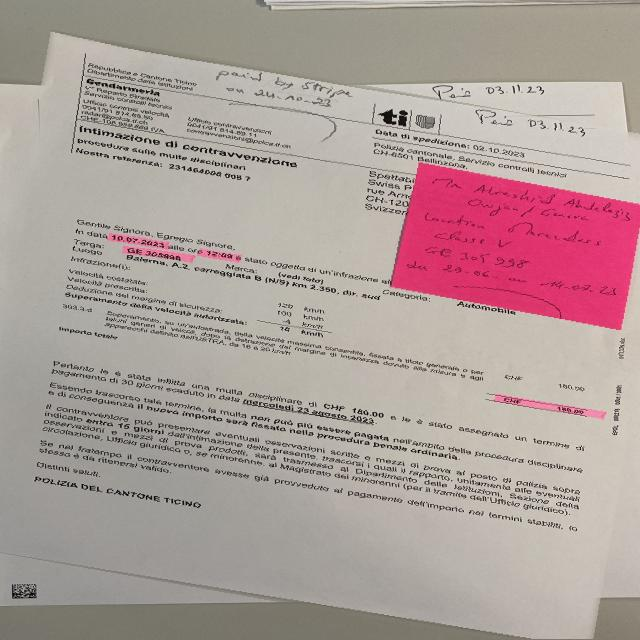paper-document-: (0, 35, 640, 640)
